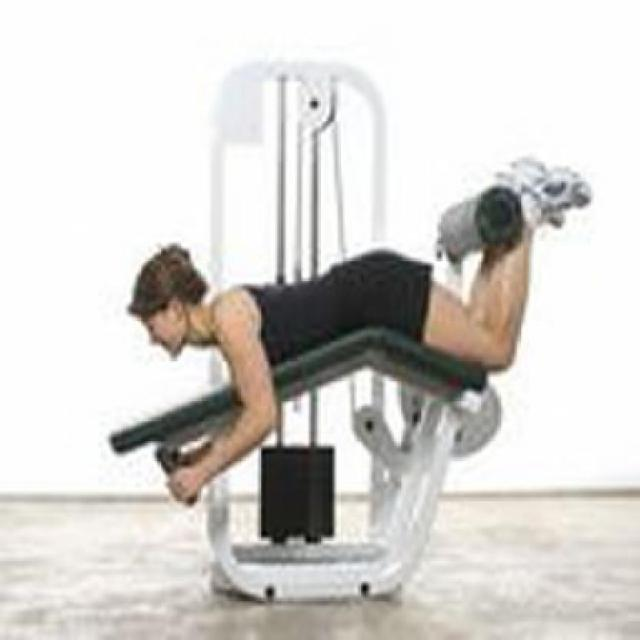reg curl machine: (106, 58, 594, 608)
